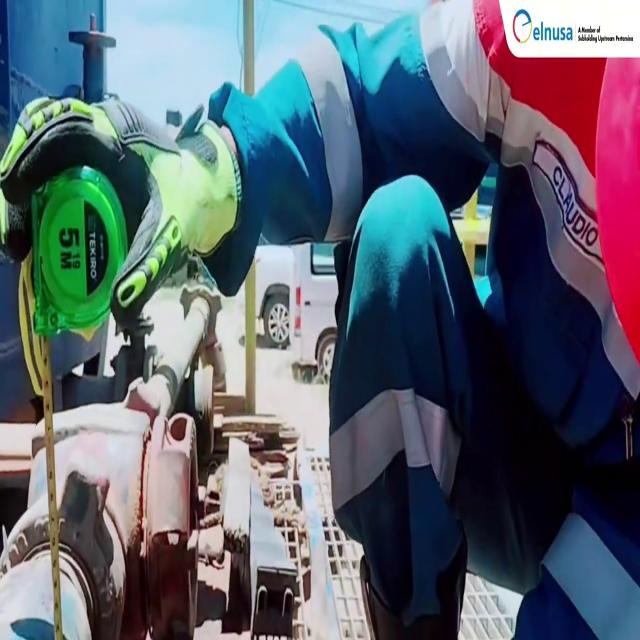Gloves: (2, 98, 240, 322)
Overall Suit: (229, 62, 640, 640)
